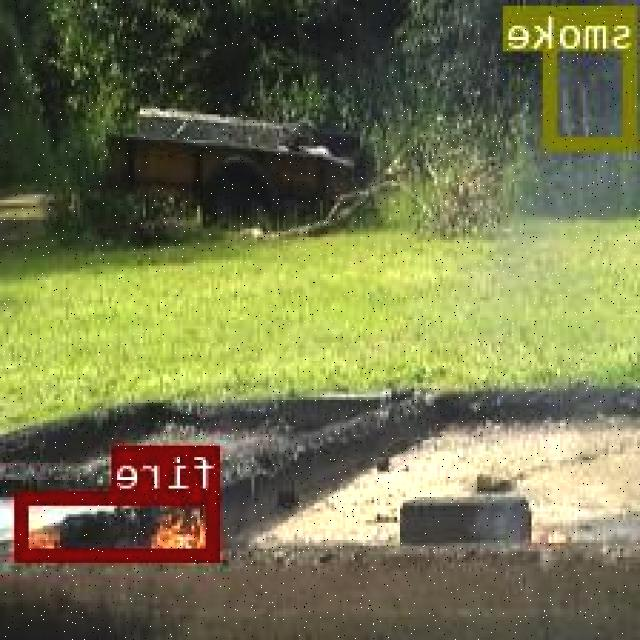fire: (18, 488, 222, 558)
smoke: (547, 3, 639, 146)
